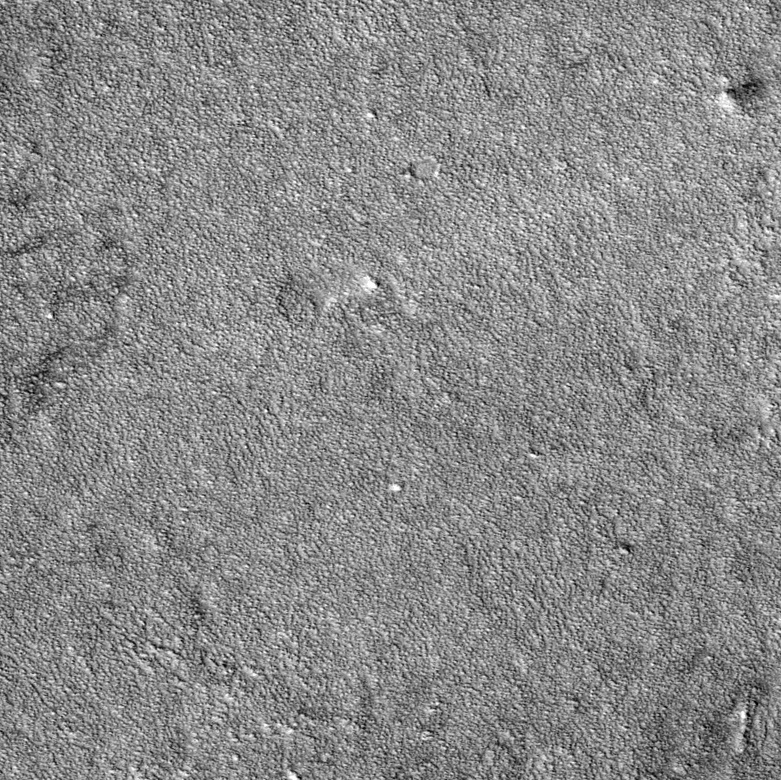dust_devil: (712, 76, 772, 114)
